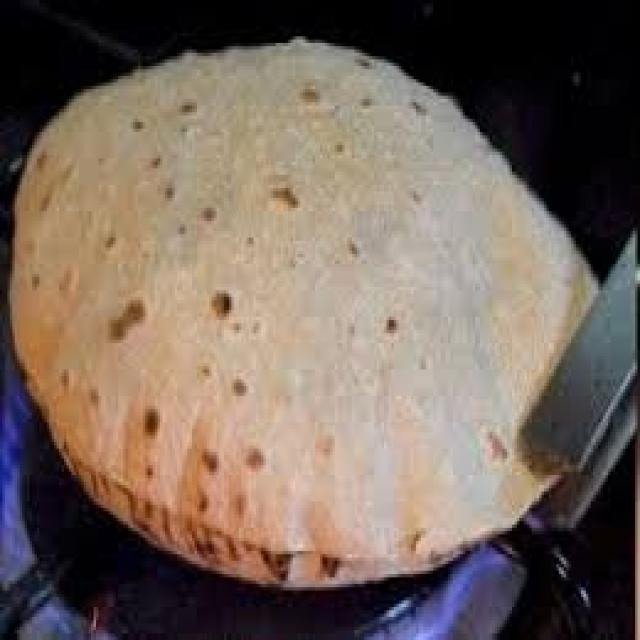ROTI: (7, 40, 596, 581)
